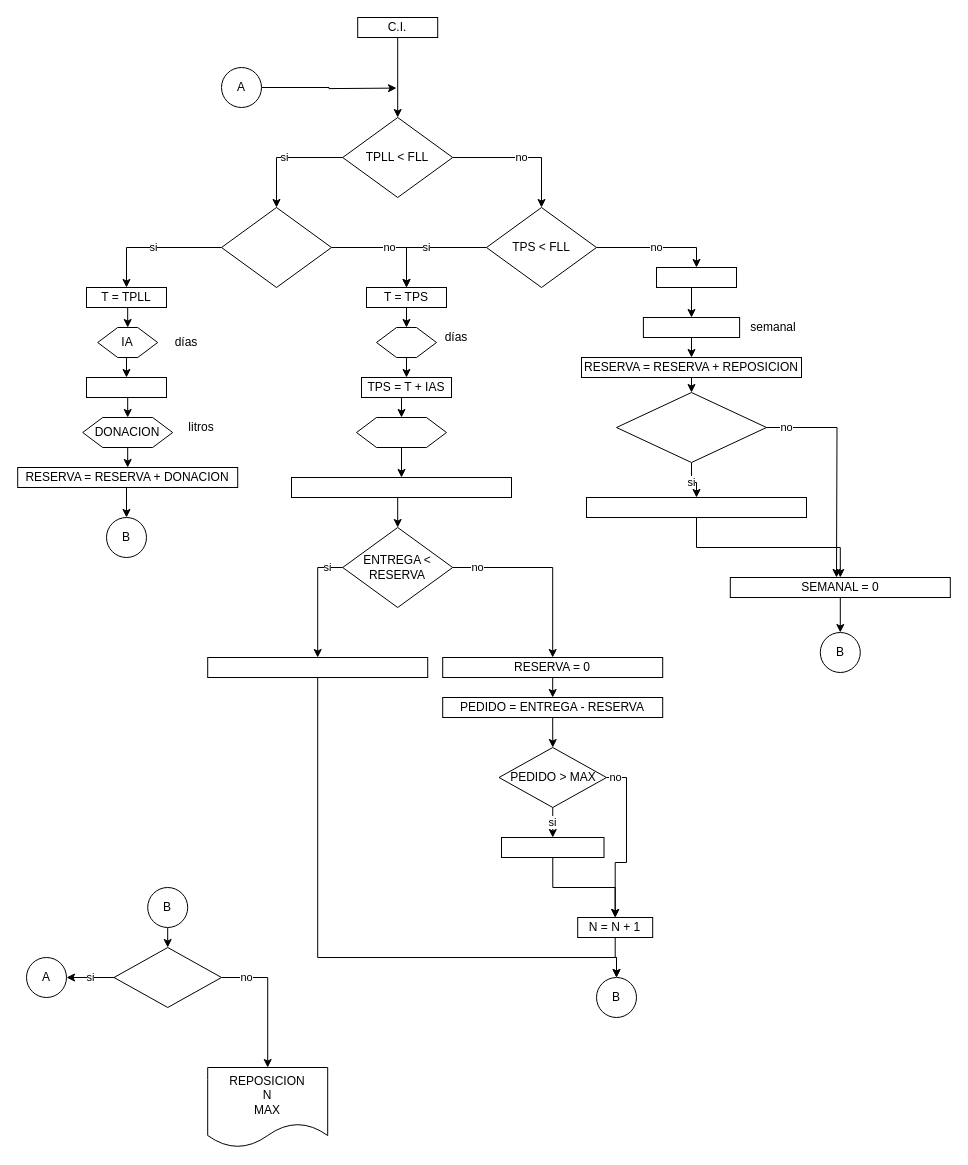
Image size: 968x1165. Some labels were removed from this diagram. Here are the shapes that lost their labels. From the top down, the centre of each, then its label:
At (276,247): "TPLL < TPS".
At (696,277): "T = FLL".
At (406,342): "IAS".
At (691,327): "FLL = FLL + 7".
At (126,387): "TPLL = T + IA".
At (401,432): "ENTREGA".
At (691,427): "SEMANAL > MAXSEMANAL".
At (401,487): "SEMANAL = SEMANAL + ENTREGA".
At (696,507): "MAXSEMANAL = SEMANAL".
At (317,667): "RESERVA = RESERVA - ENTREGA".
At (552,847): "MAX = PEDIDO".
At (167,977): "T < TF".
